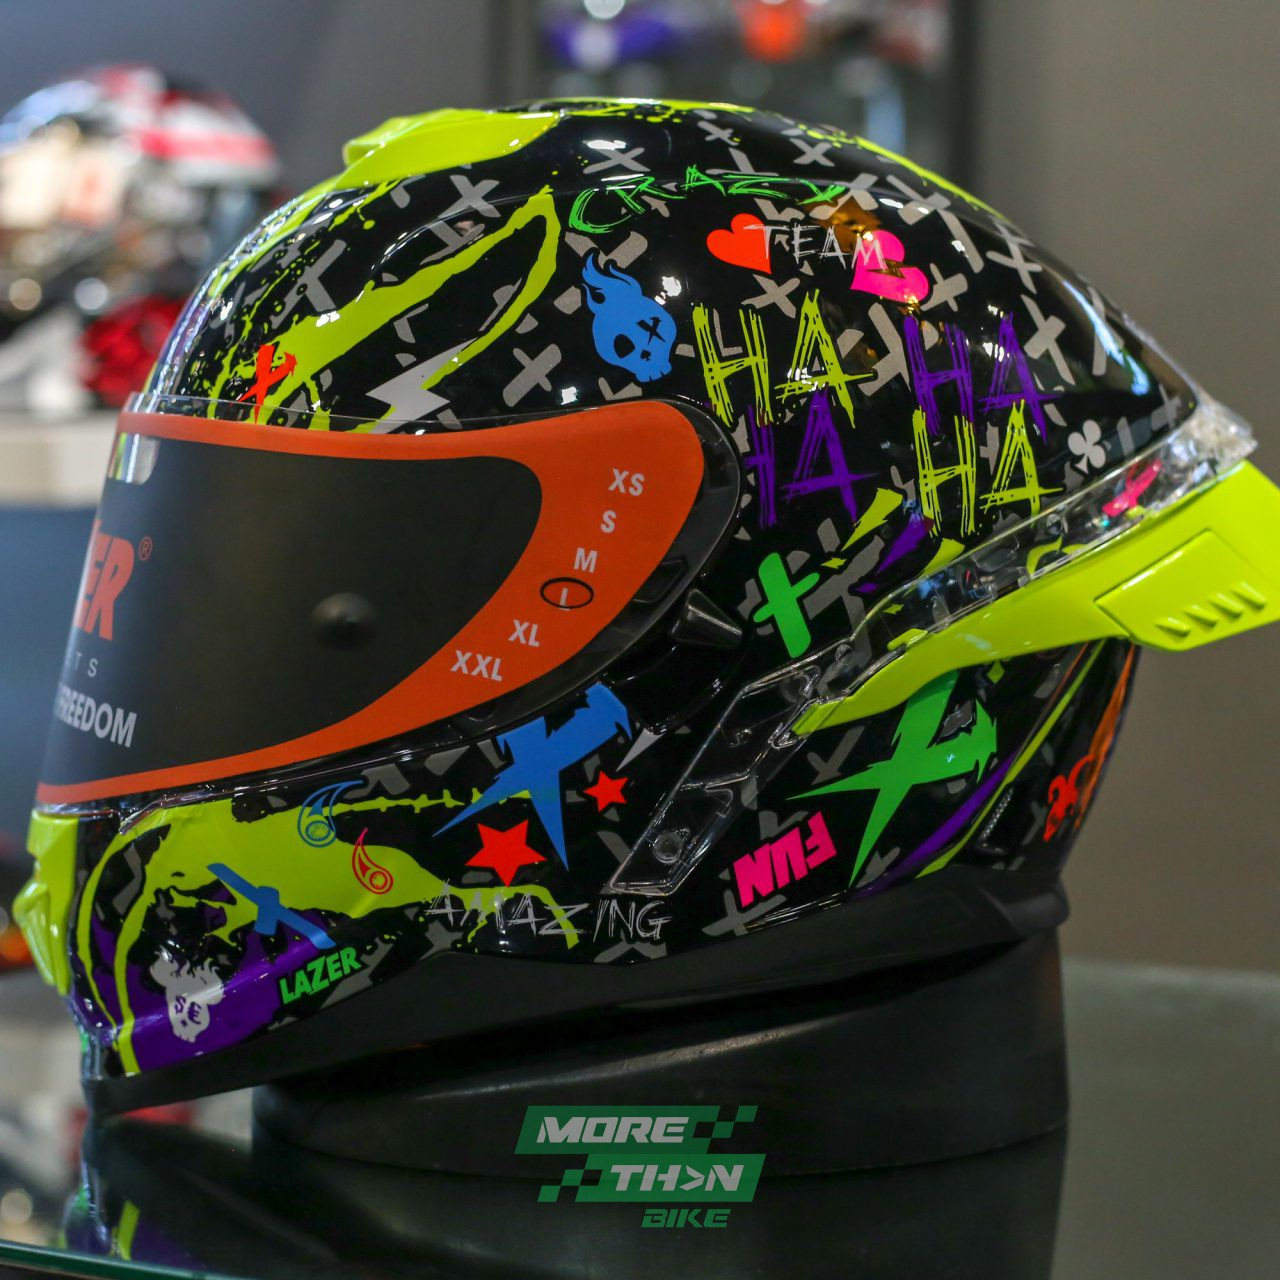helmet: (13, 100, 1280, 1112)
